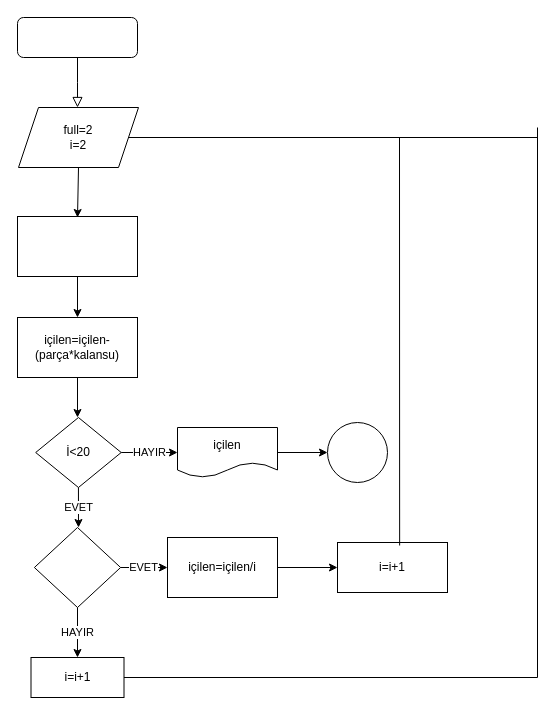
This 556x715 diagram has some shape labels left out. Each missing label, with the centre of its shape:
"Başla" goes at (x=77, y=37).
"bitir" goes at (x=357, y=452).
"içilen%i==0" goes at (x=77, y=567).
"kalansu değer=full/4 parça=değer/5" goes at (x=77, y=246).
